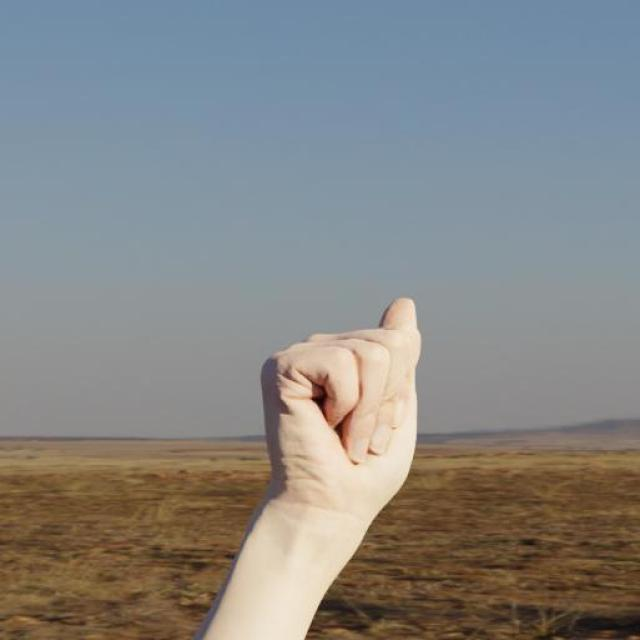A: (252, 288, 438, 534)
